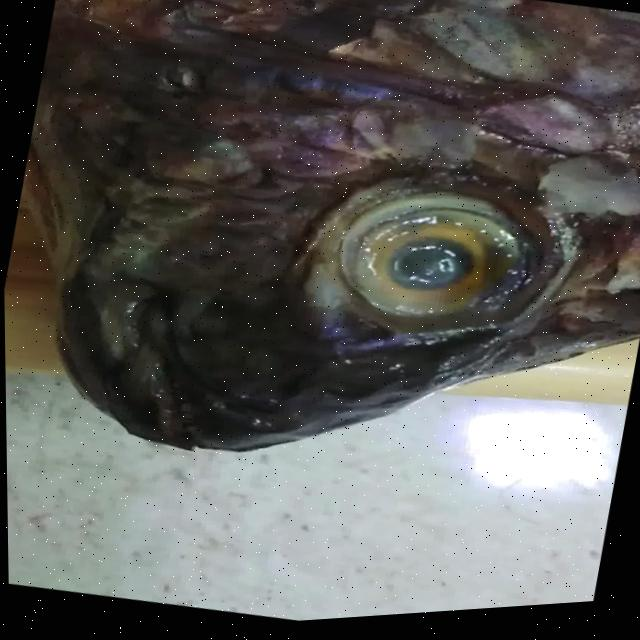Non-Fresh: (303, 152, 551, 372)
